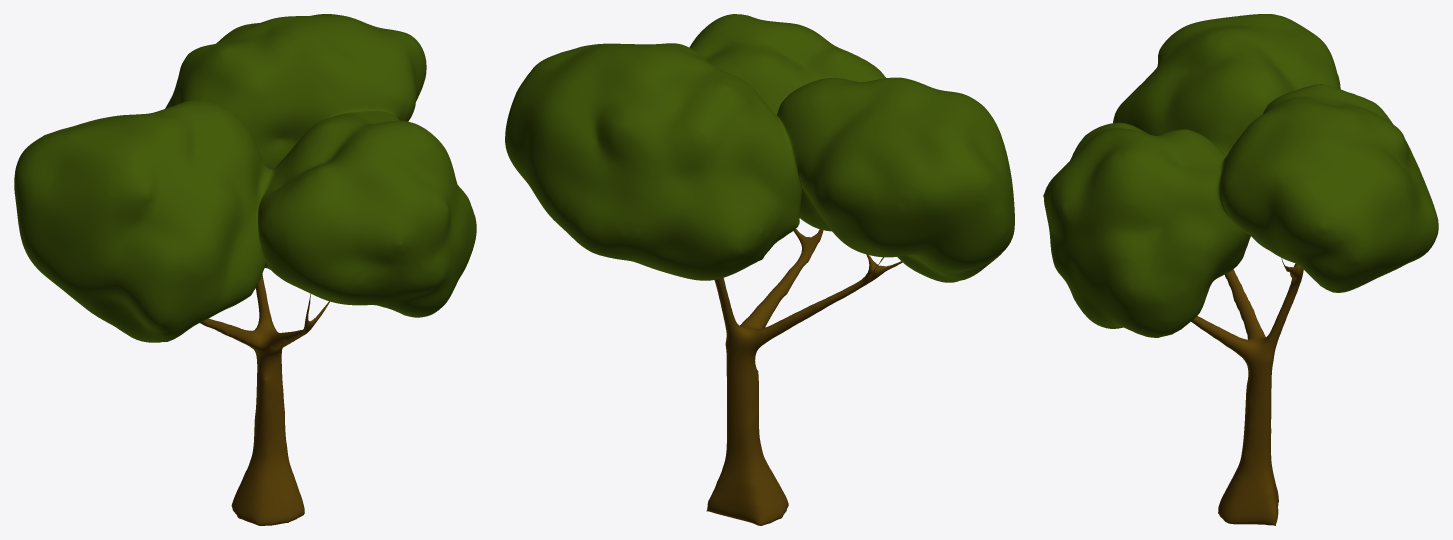
Rendered from Tree3.glb.
The picture shows the model from 3 angles, left to right: view 1: azimuth 30°, elevation 25°; view 2: azimuth 150°, elevation 25°; view 3: azimuth 270°, elevation 25°; orthographic projection. The views are drawn at different scales.
Parts seen in each view (by area): view 1: Tree3_canopy, Tree3_trunk; view 2: Tree3_canopy, Tree3_trunk; view 3: Tree3_canopy, Tree3_trunk.
Part boxes in pixels (bbox=[...]): Tree3_canopy: bbox=[14, 14, 476, 342]; Tree3_trunk: bbox=[200, 274, 329, 525]; Tree3_canopy: bbox=[505, 14, 1014, 282]; Tree3_trunk: bbox=[706, 229, 902, 525]; Tree3_canopy: bbox=[1043, 14, 1438, 337]; Tree3_trunk: bbox=[1191, 258, 1303, 525].
Size of the model in its own units: 14.9 by 14.84 by 12.18.
